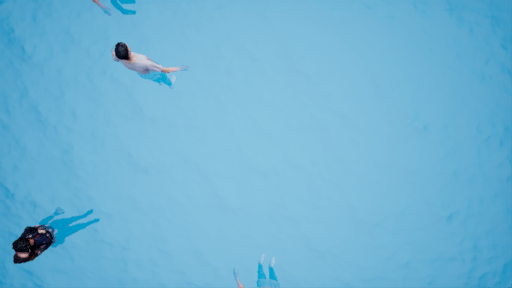person: (12, 211, 103, 267), (109, 39, 195, 92)
